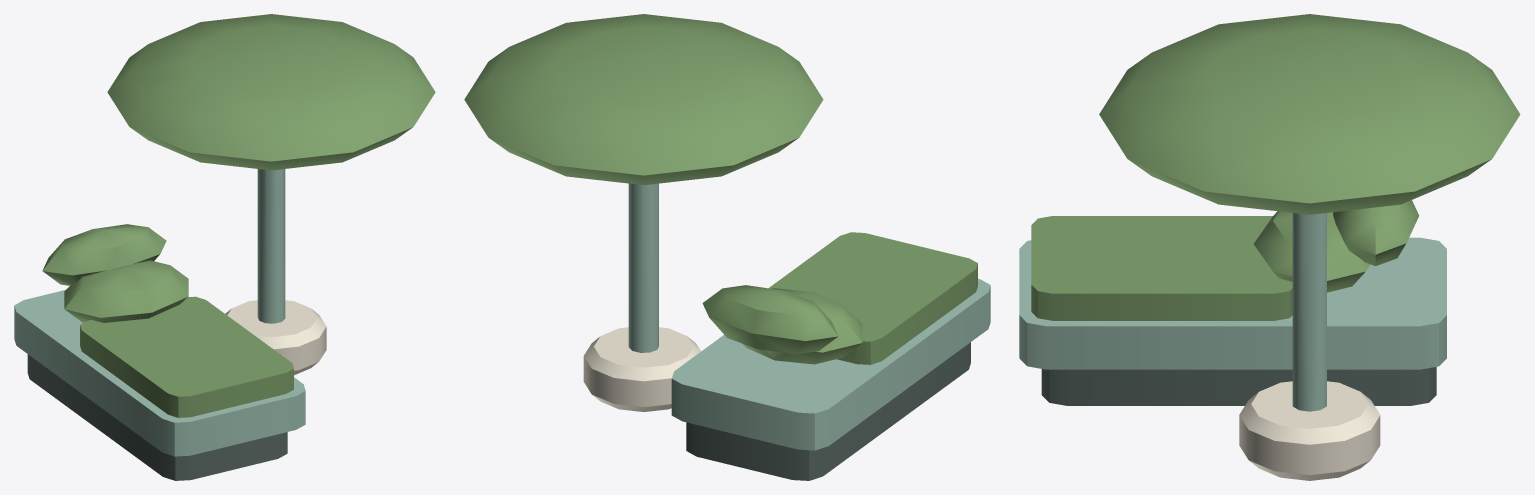
The model's file is lounge-chair-parasol.glb.
3 views of the same model, side by side, from view 1: azimuth 30°, elevation 25°; view 2: azimuth 150°, elevation 25°; view 3: azimuth 270°, elevation 25° (orthographic). The views are drawn at different scales.
Visible parts, largest first — view 1: lounge-chair-parasol; view 2: lounge-chair-parasol; view 3: lounge-chair-parasol.
Part boxes in pixels (left/top/right/bottom): lounge-chair-parasol: left=14, top=14, right=435, bottom=480; lounge-chair-parasol: left=464, top=14, right=990, bottom=480; lounge-chair-parasol: left=1019, top=14, right=1520, bottom=480.
Size of the model in its own units: 4.38 by 3.58 by 4.18.
2 materials, 2 textured.
